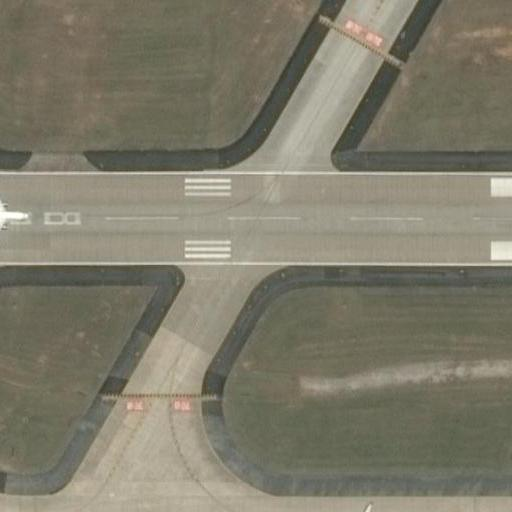Aircraft: (0, 181, 34, 249), (326, 502, 401, 512)
